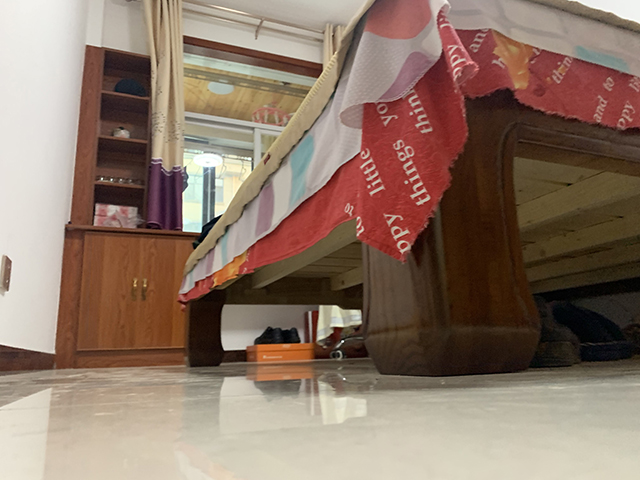bed: (177, 1, 640, 377)
cabinet: (57, 226, 194, 370)
curtain: (141, 1, 185, 232)
slippers: (550, 301, 628, 360)
